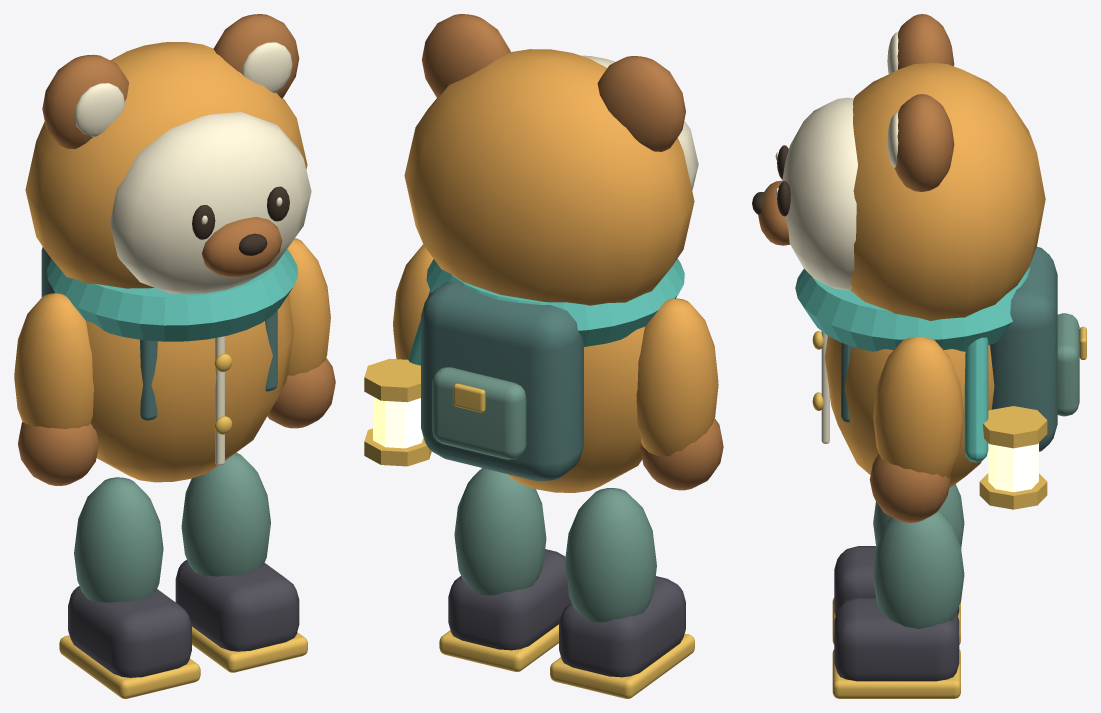
Rendered from pipi_explorer.glb.
3 renders of one model, left to right at view 1: azimuth 30°, elevation 25°; view 2: azimuth 150°, elevation 25°; view 3: azimuth 270°, elevation 25°, orthographic. The views are drawn at different scales.
Parts seen in each view (by area): view 1: Hood, Face, Parka, Scarf, TrouserL, SleeveL, TrouserR, BootL, BootR, SleeveR, Ear, PawL (+13 smaller); view 2: Hood, Backpack, SleeveL, TrouserL, TrouserR, Parka, BootL, BootR, BagPocket, Ear, Scarf, Ear.001 (+9 smaller); view 3: Hood, Face, SleeveR, TrouserR, Backpack, BootR, Scarf, Parka, Ear.001, PawR, ScarfTail, SoleR (+10 smaller).
Boxes of the visible parts, x1=… form: Hood: x1=25, y1=42, x2=307, y2=288; Face: x1=110, y1=112, x2=311, y2=294; Parka: x1=85, y1=294, x2=294, y2=482; Scarf: x1=47, y1=249, x2=297, y2=341; TrouserL: x1=74, y1=477, x2=163, y2=602; SleeveL: x1=14, y1=293, x2=93, y2=428; TrouserR: x1=181, y1=452, x2=270, y2=576; BootL: x1=68, y1=586, x2=191, y2=677; BootR: x1=175, y1=560, x2=299, y2=651; SleeveR: x1=287, y1=238, x2=330, y2=375; Ear: x1=42, y1=54, x2=128, y2=148; PawL: x1=18, y1=422, x2=99, y2=485; Hood: x1=404, y1=49, x2=694, y2=305; Backpack: x1=421, y1=281, x2=583, y2=481; SleeveL: x1=636, y1=298, x2=718, y2=456; TrouserL: x1=565, y1=488, x2=656, y2=622; TrouserR: x1=454, y1=468, x2=546, y2=595; Parka: x1=505, y1=326, x2=644, y2=492; BootL: x1=559, y1=576, x2=685, y2=677; BootR: x1=448, y1=549, x2=571, y2=650; BagPocket: x1=432, y1=367, x2=526, y2=459; Ear: x1=597, y1=56, x2=685, y2=151; Scarf: x1=426, y1=258, x2=684, y2=346; Ear.001: x1=422, y1=14, x2=510, y2=98; Hood: x1=850, y1=62, x2=1045, y2=320; Face: x1=782, y1=97, x2=857, y2=290; SleeveR: x1=873, y1=336, x2=964, y2=478; TrouserR: x1=873, y1=510, x2=964, y2=628; Backpack: x1=990, y1=246, x2=1057, y2=451; BootR: x1=834, y1=597, x2=959, y2=681; Scarf: x1=795, y1=267, x2=1029, y2=351; Parka: x1=824, y1=336, x2=994, y2=488; Ear.001: x1=894, y1=94, x2=954, y2=191; PawR: x1=869, y1=454, x2=950, y2=522; ScarfTail: x1=964, y1=337, x2=988, y2=462; SoleR: x1=832, y1=649, x2=960, y2=698.
Size of the model in its own units: 1.03 by 1.95 by 0.99.
